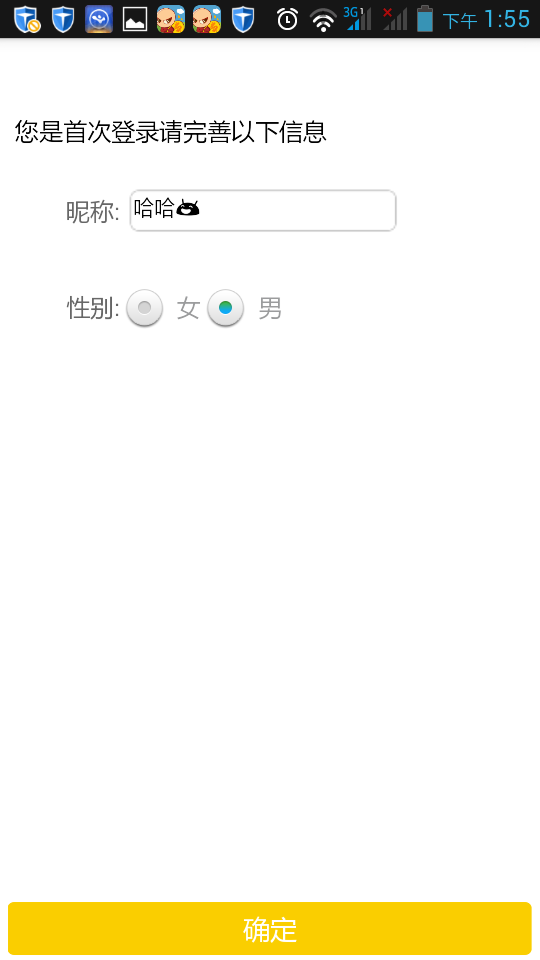button: (4, 898, 540, 957)
radiobutton: (119, 282, 305, 335)
textview: (45, 174, 441, 250)
